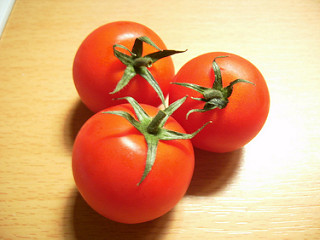tomato: (70, 101, 191, 230), (177, 51, 273, 154), (75, 17, 176, 108)
